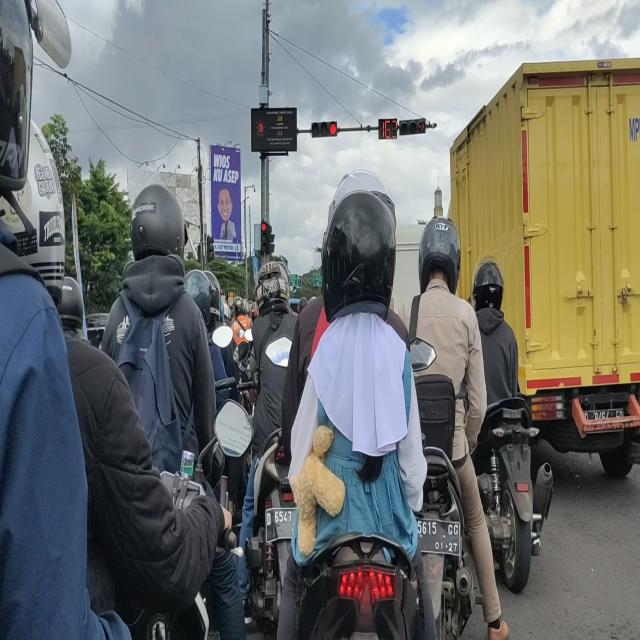helmet: (0, 112, 69, 290), (324, 194, 396, 316), (132, 186, 191, 262), (418, 213, 460, 290), (257, 266, 293, 315), (474, 259, 504, 315), (185, 274, 213, 323), (206, 272, 222, 319), (234, 296, 247, 320)
